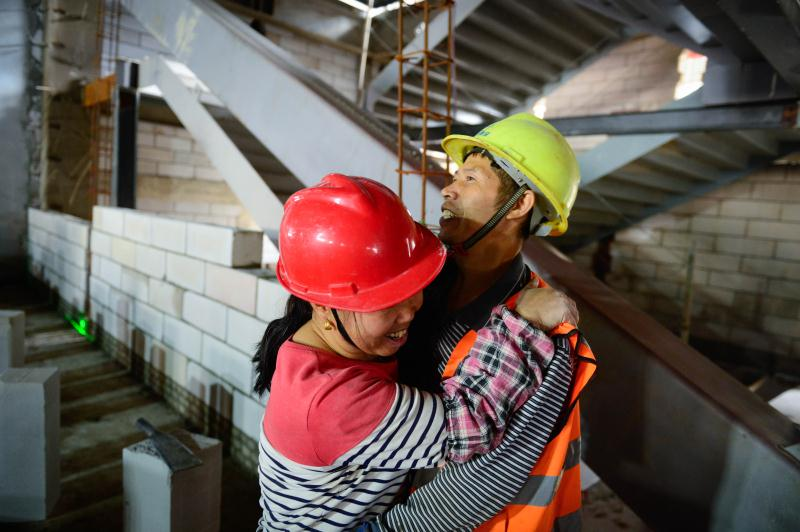safetyhat: (239, 162, 440, 503), (435, 106, 608, 479)
